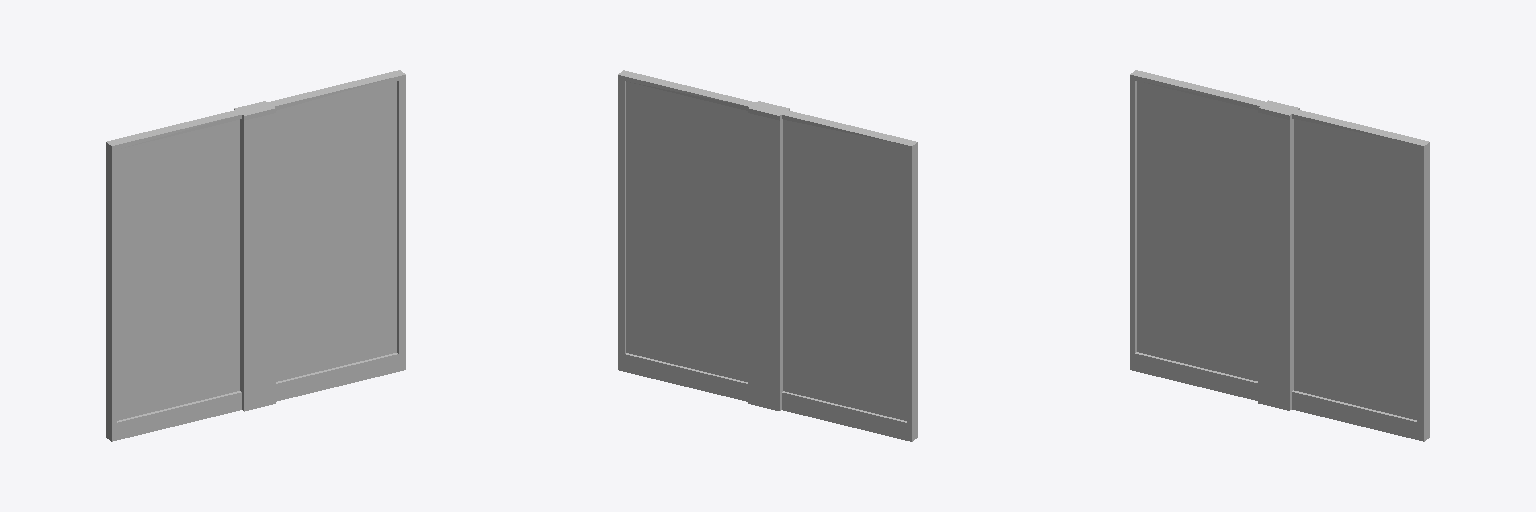
File: OfficeCubicleSeperator.obj
3 views of the same model, side by side, from view 1: azimuth 30°, elevation 25°; view 2: azimuth 150°, elevation 25°; view 3: azimuth 330°, elevation 25° (orthographic).
Visible parts, largest first — view 1: pCube2; view 2: pCube2; view 3: pCube2.
Part boxes in pixels (x1,y1,x2,y2): pCube2: (106,70,405,441); pCube2: (618,70,917,441); pCube2: (1130,70,1429,441).
Bounding box in the file's own units: 16.57 × 15.91 × 1.